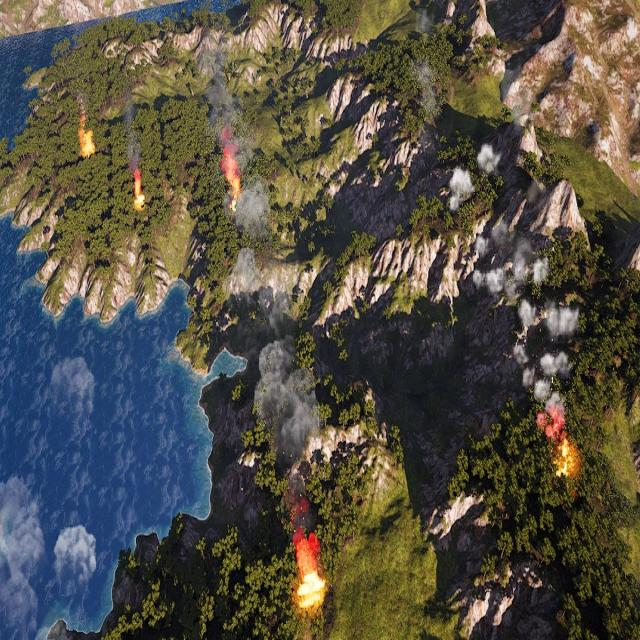fire: (296, 571, 326, 610), (221, 157, 242, 200), (558, 437, 577, 482), (78, 122, 95, 155), (133, 180, 147, 208)
smoke: (231, 247, 327, 570), (472, 221, 580, 434), (205, 52, 241, 176), (228, 184, 272, 235), (125, 98, 144, 176), (450, 166, 472, 210), (478, 143, 502, 172)
